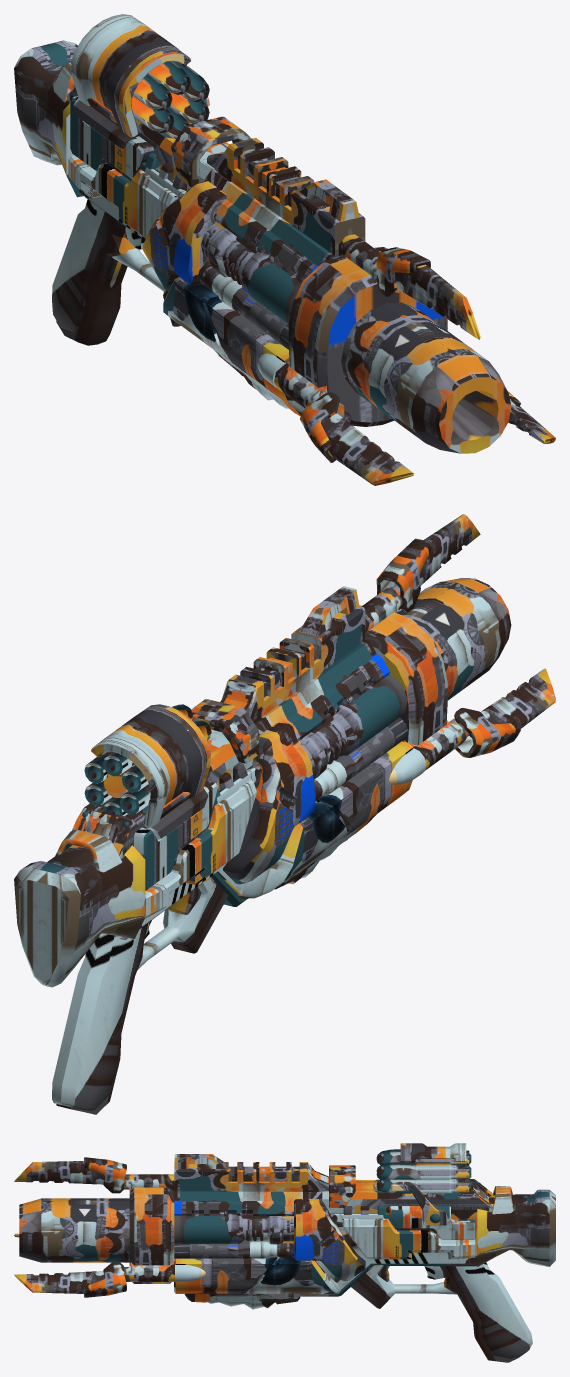
File: lzz_wuqi.FBX
The picture shows the model from 3 angles, top to bottom: view 1: azimuth 30°, elevation 25°; view 2: azimuth 150°, elevation 25°; view 3: azimuth 270°, elevation 25°; orthographic projection. The views are drawn at different scales.
Parts seen in each view (by area): view 1: Box001; view 2: Box001; view 3: Box001.
Boxes of the visible parts, <box> form: Box001: <box>14,14,555,485</box>; Box001: <box>14,514,555,1114</box>; Box001: <box>14,1143,555,1362</box>.
Bounding box in the file's own units: 10.04 × 16.82 × 38.55.
